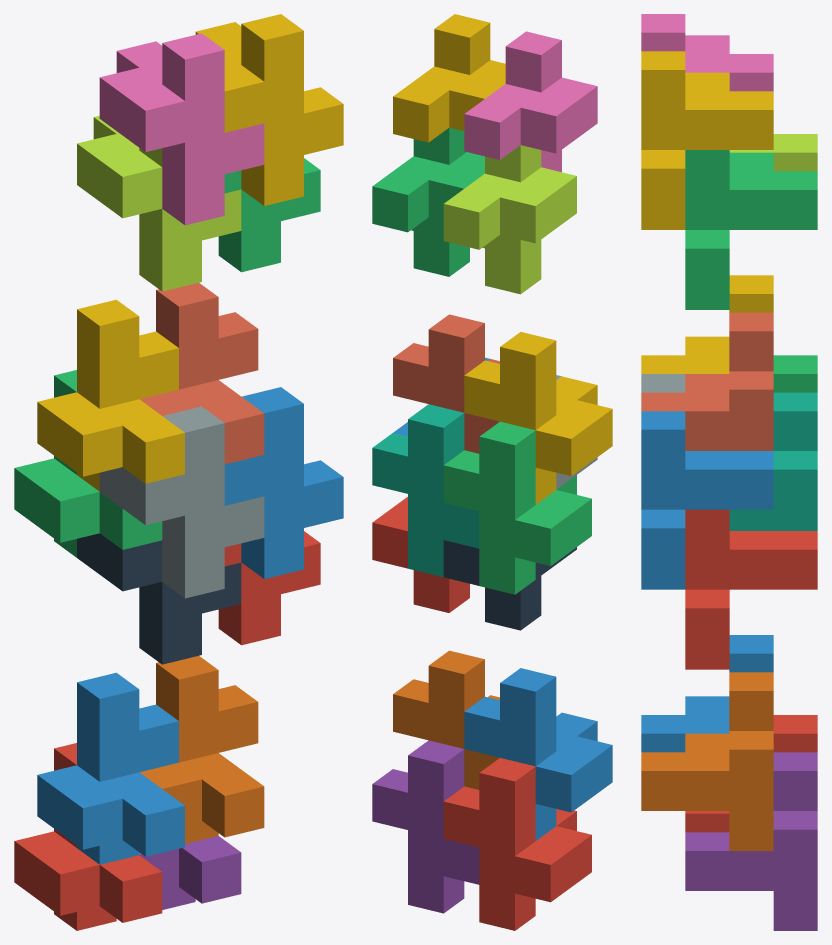
The model's file is tiling.obj.
3 renders of one model, left to right at view 1: azimuth 30°, elevation 25°; view 2: azimuth 150°, elevation 25°; view 3: azimuth 270°, elevation 25°, orthographic. The views are drawn at different scales.
Parts seen in each view (by area): view 1: copy_1_domain_2, copy_2_domain_4, copy_1_domain_4, copy_2_domain_8, copy_2_domain_2, copy_1_domain_6, copy_2_domain_6, copy_1_domain_8, copy_2_domain_3, copy_1_domain_1, copy_2_domain_1, copy_1_domain_3 (+3 smaller); view 2: copy_1_domain_1, copy_1_domain_3, copy_1_domain_2, copy_1_domain_4, copy_2_domain_3, copy_2_domain_4, copy_1_domain_5, copy_1_domain_7, copy_2_domain_7, copy_2_domain_8, copy_1_domain_8, copy_1_domain_6 (+2 smaller); view 3: copy_1_domain_6, copy_2_domain_8, copy_2_domain_6, copy_2_domain_7, copy_2_domain_5, copy_1_domain_5, copy_1_domain_8, copy_1_domain_7, copy_1_domain_2, copy_2_domain_4, copy_1_domain_4, copy_1_domain_1 (+3 smaller).
Boxes of the visible parts, x1,y1,x2,y2 form: copy_1_domain_2: (37, 672, 184, 864); copy_2_domain_4: (99, 33, 264, 225); copy_1_domain_4: (37, 299, 184, 491); copy_2_domain_8: (195, 14, 343, 205); copy_2_domain_2: (99, 406, 264, 598); copy_1_domain_6: (140, 656, 264, 843); copy_2_domain_6: (224, 387, 343, 578); copy_1_domain_8: (139, 282, 264, 464); copy_2_domain_3: (77, 115, 241, 291); copy_1_domain_1: (14, 743, 162, 930); copy_2_domain_1: (77, 533, 241, 664); copy_1_domain_3: (14, 370, 162, 557); copy_1_domain_1: (443, 758, 591, 930); copy_1_domain_3: (443, 421, 591, 594); copy_1_domain_2: (464, 668, 612, 840); copy_1_domain_4: (464, 332, 612, 504); copy_2_domain_3: (443, 145, 576, 294); copy_2_domain_4: (464, 31, 597, 172); copy_1_domain_5: (372, 740, 479, 913); copy_1_domain_7: (372, 404, 479, 577); copy_2_domain_7: (372, 127, 484, 276); copy_2_domain_8: (393, 14, 505, 142); copy_1_domain_8: (393, 314, 499, 453); copy_1_domain_6: (393, 650, 499, 789); copy_1_domain_6: (641, 672, 773, 850); copy_2_domain_8: (641, 51, 773, 229); copy_2_domain_6: (641, 411, 773, 589); copy_2_domain_7: (685, 150, 817, 309); copy_2_domain_5: (685, 509, 817, 669); copy_1_domain_5: (685, 752, 817, 930); copy_1_domain_8: (641, 312, 773, 450); copy_1_domain_7: (729, 392, 817, 530); copy_1_domain_2: (641, 635, 773, 752); copy_2_domain_4: (641, 14, 773, 91); copy_1_domain_4: (641, 275, 773, 373); copy_1_domain_1: (685, 715, 817, 832).
Bounding box in the file's own units: 6 × 22 × 4.
